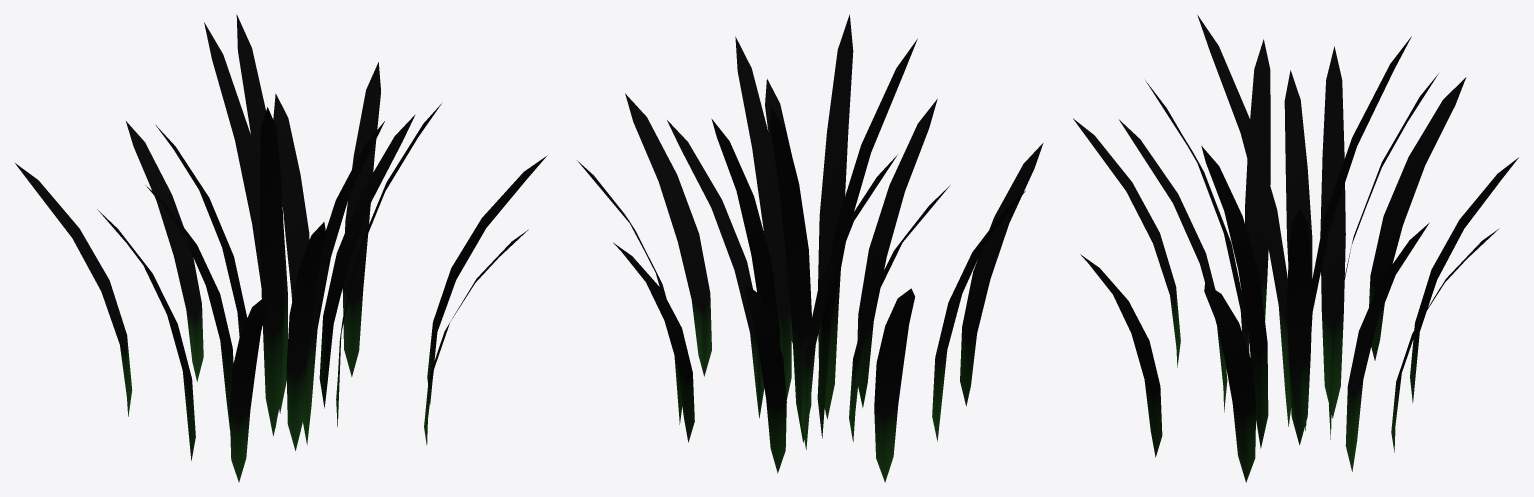
File: GrassClump.fbx
The picture shows the model from 3 angles, left to right: view 1: azimuth 30°, elevation 25°; view 2: azimuth 150°, elevation 25°; view 3: azimuth 270°, elevation 25°; orthographic projection. The views are drawn at different scales.
Parts seen in each view (by area): view 1: Plane021, Plane030, Plane022, Plane026, Plane017, Plane028, Plane033, Plane025, Plane018, Plane031, Plane020, Plane032 (+5 smaller); view 2: Plane018, Plane023, Plane025, Plane032, Plane022, Plane031, Plane021, Plane028, Plane026, Plane020, Plane017, Plane019 (+5 smaller); view 3: Plane019, Plane021, Plane023, Plane017, Plane031, Plane032, Plane027, Plane024, Plane030, Plane029, Plane028, Plane025 (+5 smaller).
Part boxes in pixels (left/top/right/bottom): Plane021: left=260, top=107, right=284, bottom=436; Plane030: left=342, top=62, right=380, bottom=376; Plane022: left=286, top=222, right=326, bottom=450; Plane026: left=126, top=121, right=203, bottom=381; Plane017: left=319, top=114, right=415, bottom=408; Plane028: left=229, top=297, right=266, bottom=482; Plane033: left=273, top=93, right=309, bottom=301; Plane025: left=204, top=22, right=281, bottom=427; Plane018: left=303, top=121, right=384, bottom=445; Plane031: left=15, top=163, right=132, bottom=416; Plane020: left=236, top=14, right=287, bottom=413; Plane032: left=427, top=155, right=547, bottom=404; Plane018: left=818, top=14, right=853, bottom=419; Plane023: left=735, top=36, right=791, bottom=399; Plane025: left=770, top=106, right=811, bottom=442; Plane032: left=625, top=93, right=711, bottom=376; Plane022: left=857, top=99, right=937, bottom=407; Plane031: left=874, top=288, right=914, bottom=482; Plane021: left=817, top=38, right=917, bottom=438; Plane028: left=960, top=143, right=1043, bottom=406; Plane026: left=744, top=284, right=786, bottom=473; Plane020: left=711, top=118, right=780, bottom=346; Plane017: left=667, top=120, right=764, bottom=418; Plane019: left=801, top=155, right=897, bottom=449; Plane019: left=1320, top=46, right=1345, bottom=418; Plane021: left=1197, top=15, right=1290, bottom=426; Plane023: left=1201, top=146, right=1268, bottom=448; Plane017: left=1287, top=209, right=1312, bottom=445; Plane031: left=1369, top=77, right=1466, bottom=360; Plane032: left=1204, top=283, right=1256, bottom=482; Plane027: left=1245, top=39, right=1270, bottom=344; Plane024: left=1284, top=70, right=1312, bottom=281; Plane030: left=1345, top=222, right=1429, bottom=471; Plane029: left=1080, top=254, right=1162, bottom=457; Plane028: left=1073, top=118, right=1180, bottom=367; Plane025: left=1305, top=36, right=1411, bottom=430.
Size of the model in its own units: 62.78 by 53.2 by 55.45.
